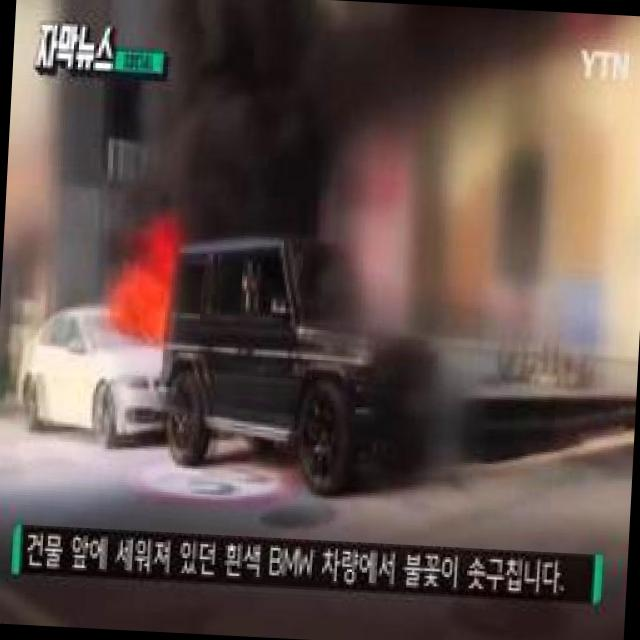Fire: (117, 273, 170, 342)
